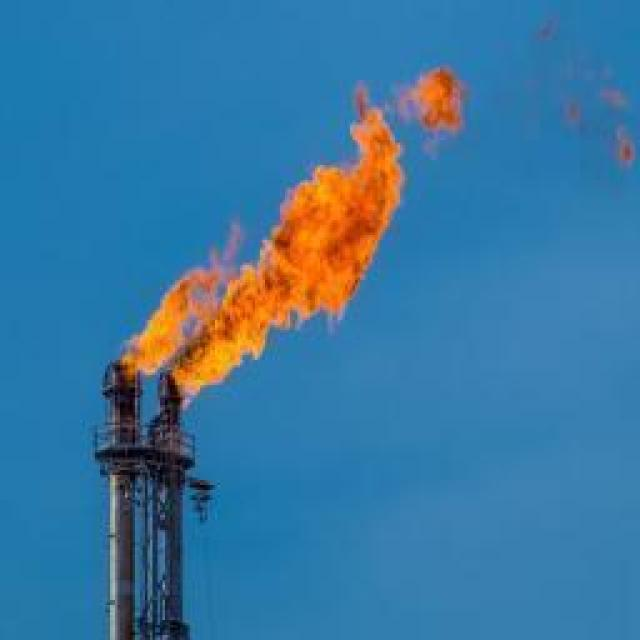fire: (171, 77, 403, 406), (120, 222, 242, 378), (398, 66, 467, 131)
